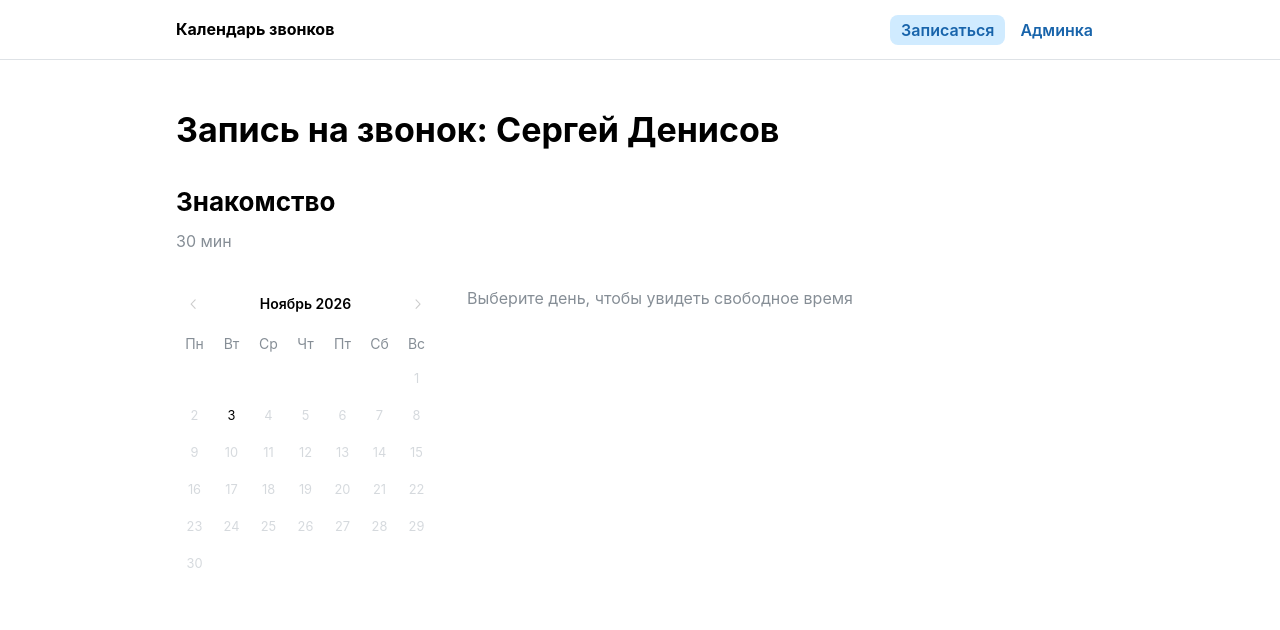
Test case: the booking form › takes the button out of action while the request is in flight
This screenshot has width=1280, height=630.
Step 1. Click the button named "3 ноября 2026" → click(232, 416), box [214, 398, 250, 434]
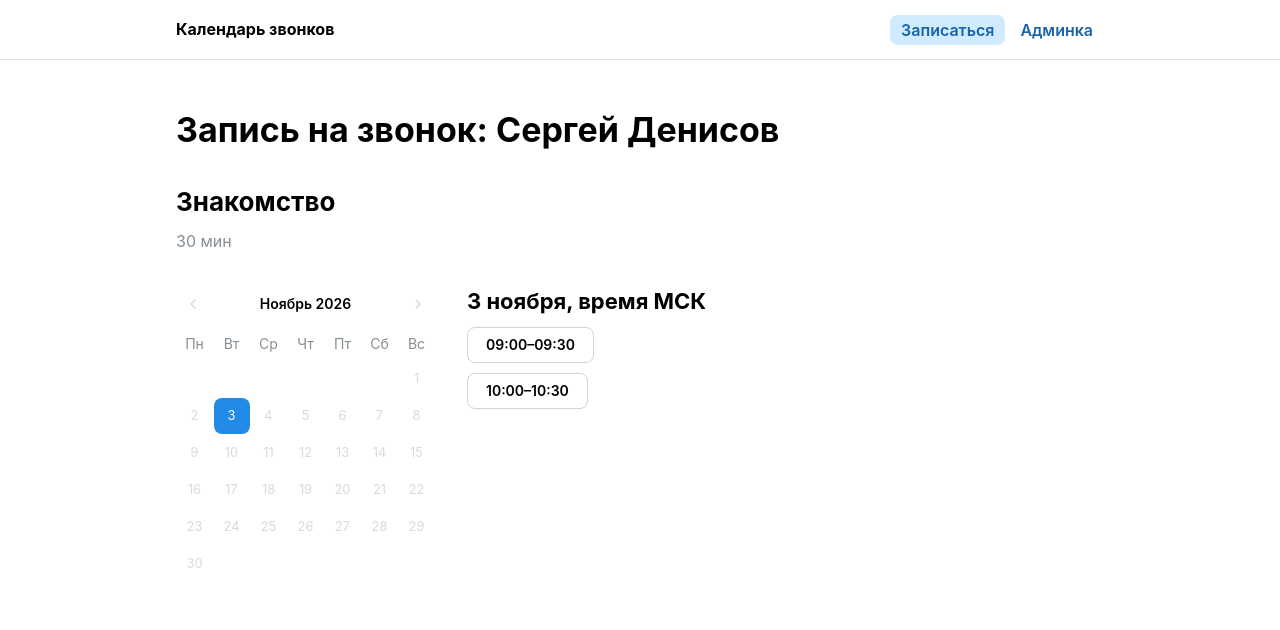
Step 2. Click the button "10:00–10:30" → click(527, 391), box [467, 373, 588, 409]
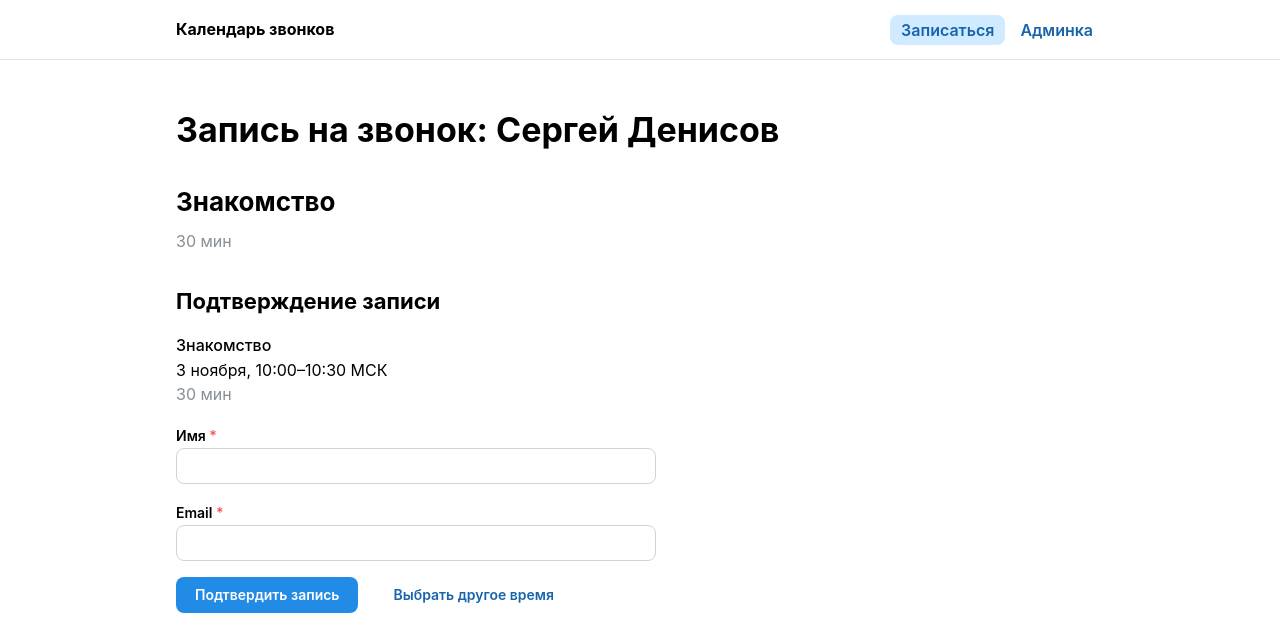
Step 3. Type "Анна Петрова" into the field labelled "Имя" → (416, 466), box [176, 448, 656, 484]
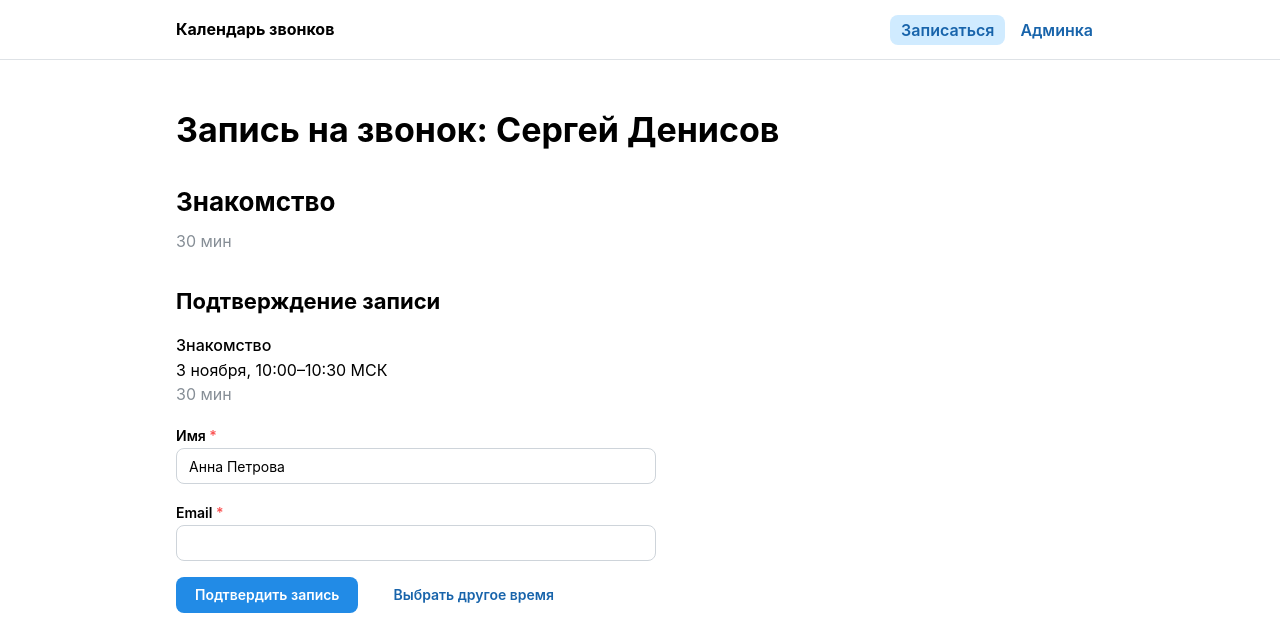
Step 4. Type "anna@example.com" into the field labelled "Email" → (416, 543), box [176, 525, 656, 561]
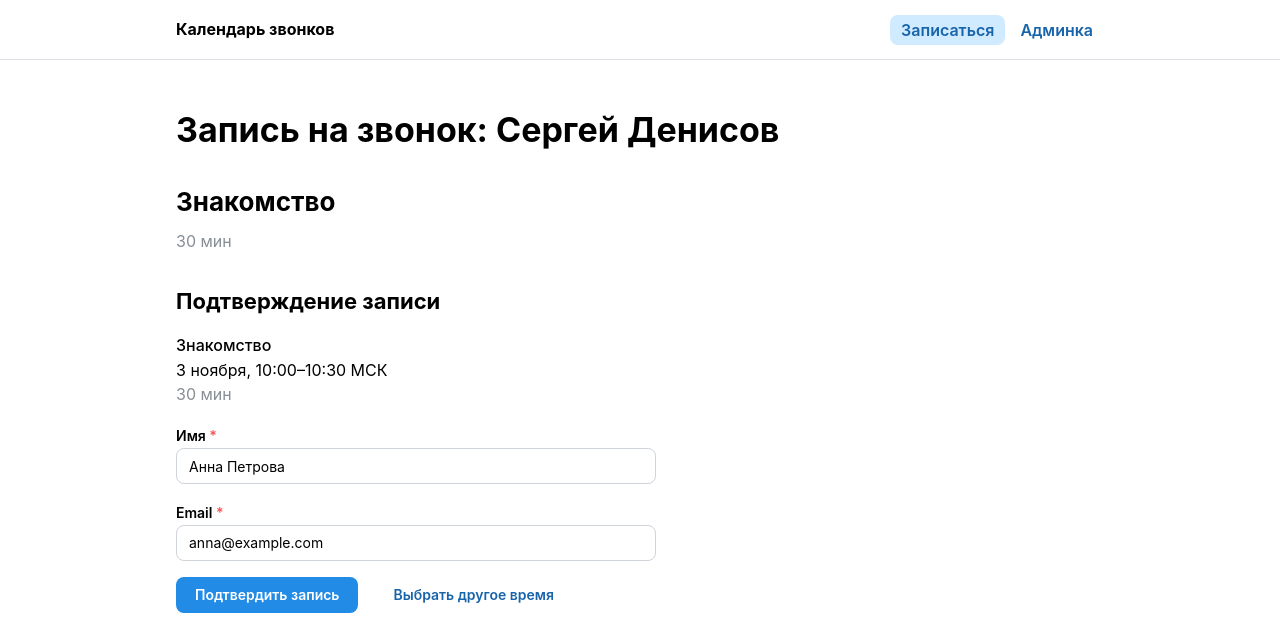
Step 5. Click the button "Подтвердить запись" → click(267, 595), box [176, 577, 358, 613]
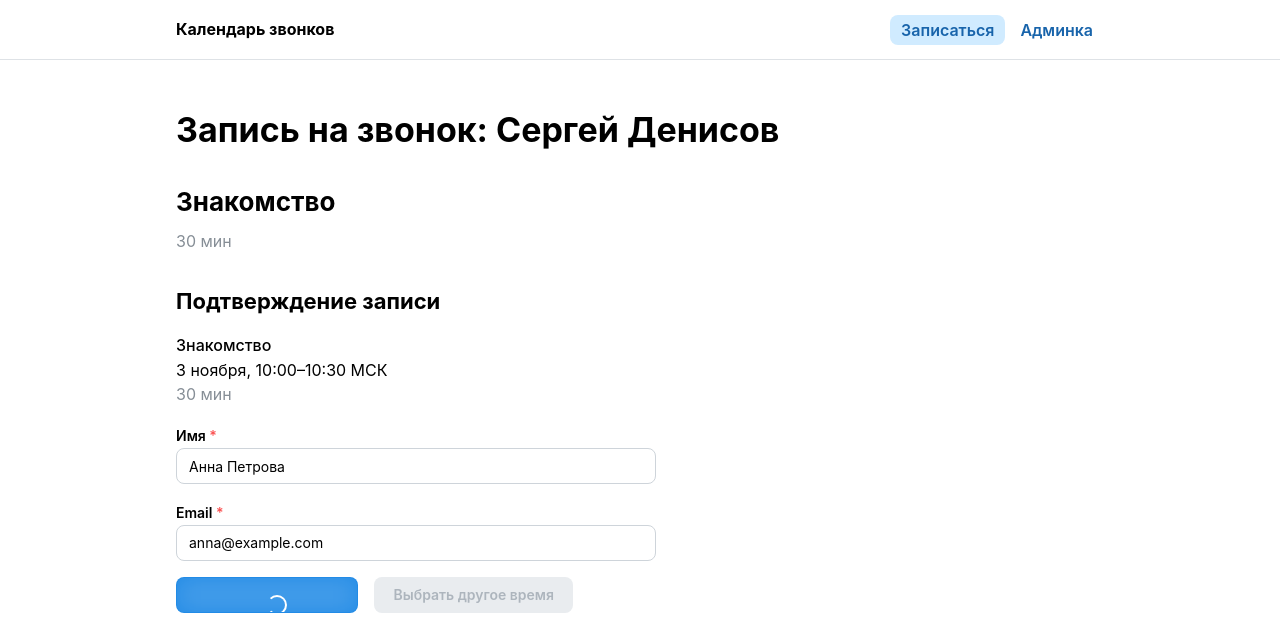
Check: the button named "Подтвердить запись" is disabled
Step 6. Click the button named "Подтвердить запись" → click(267, 595), box [176, 577, 358, 613]
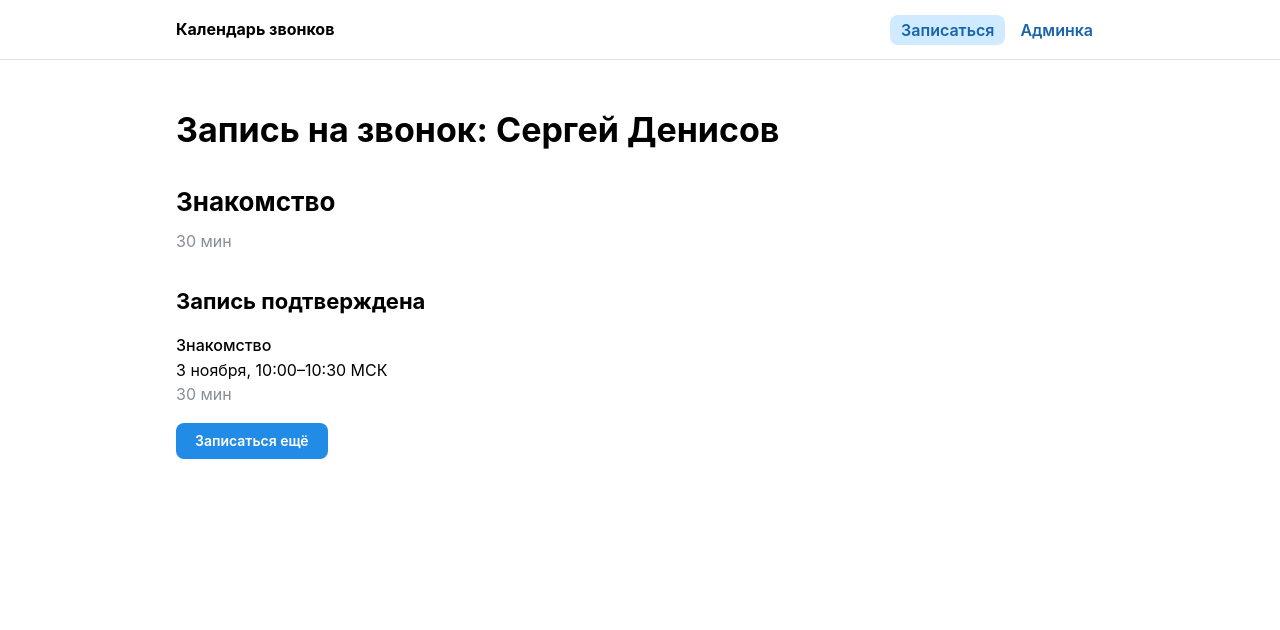
Check: the heading "Запись подтверждена" is shown, box [176, 286, 425, 317]
